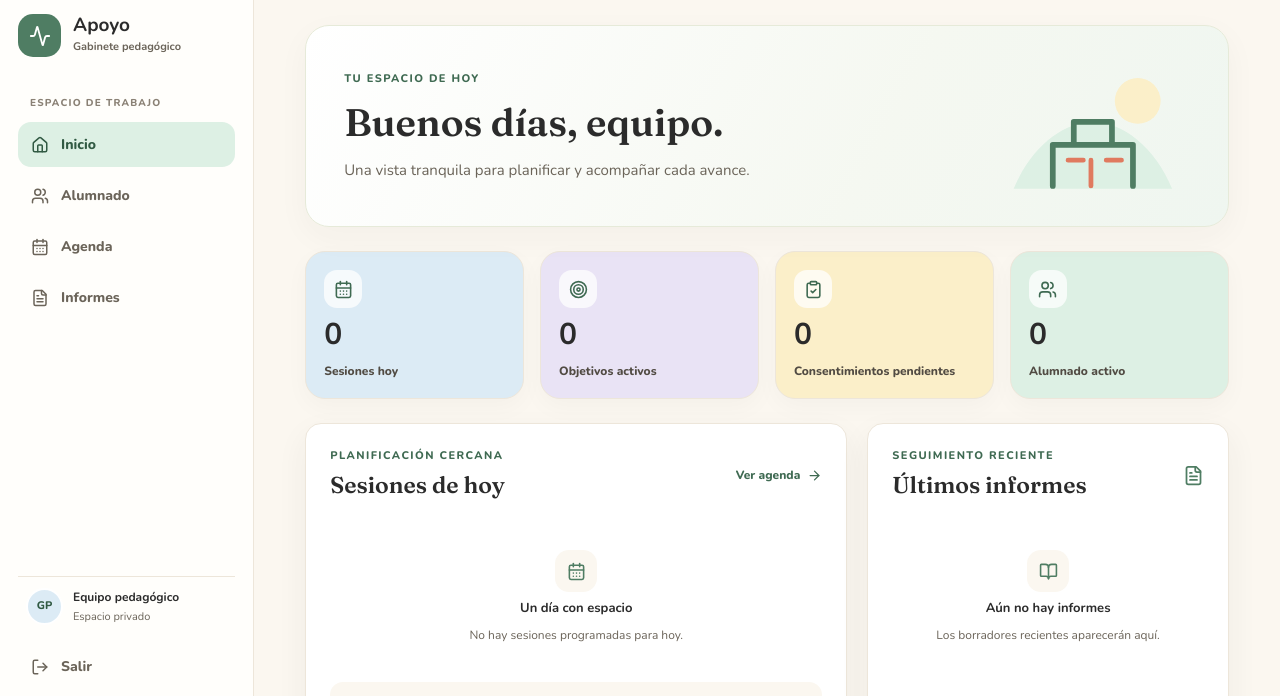
Test case: Apoyo › renders the goals chart with progress data
Click the button "Alumnado".
click(126, 196)  # box x1=18 y1=173 x2=235 y2=218
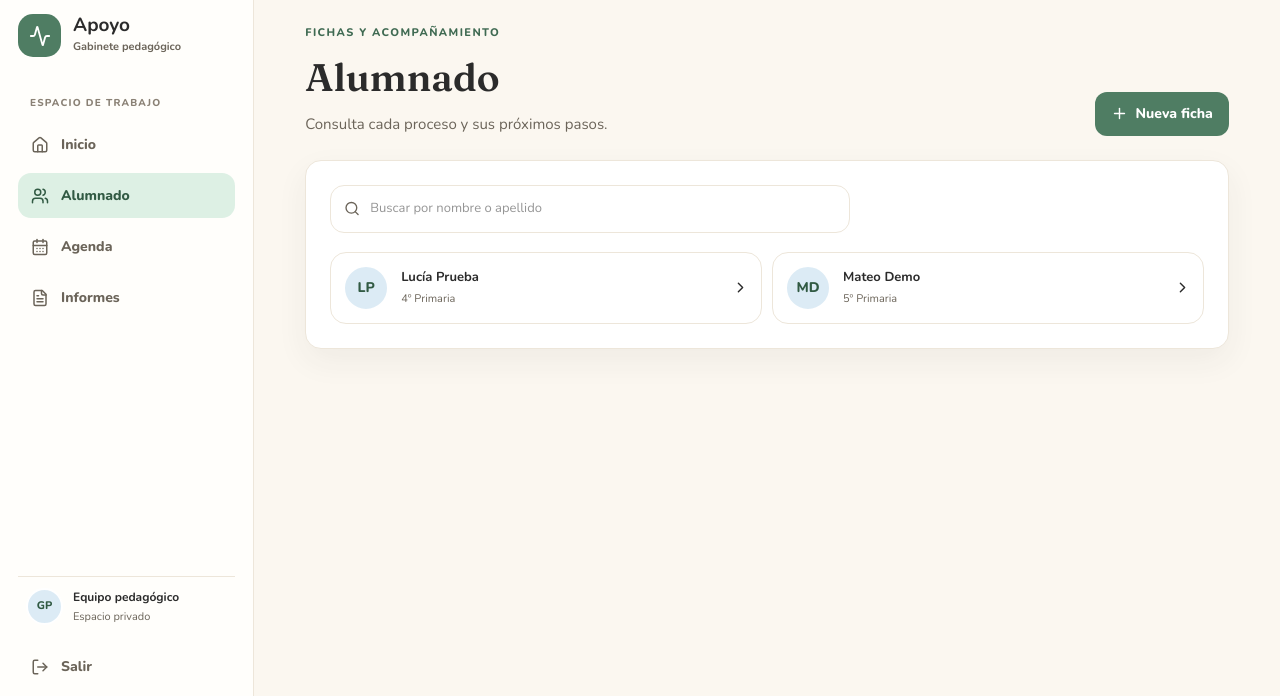
Now the text "Lucía Prueba" is shown
Click the text "Lucía Prueba".
click(440, 277)  # box x1=401 y1=268 x2=479 y2=286
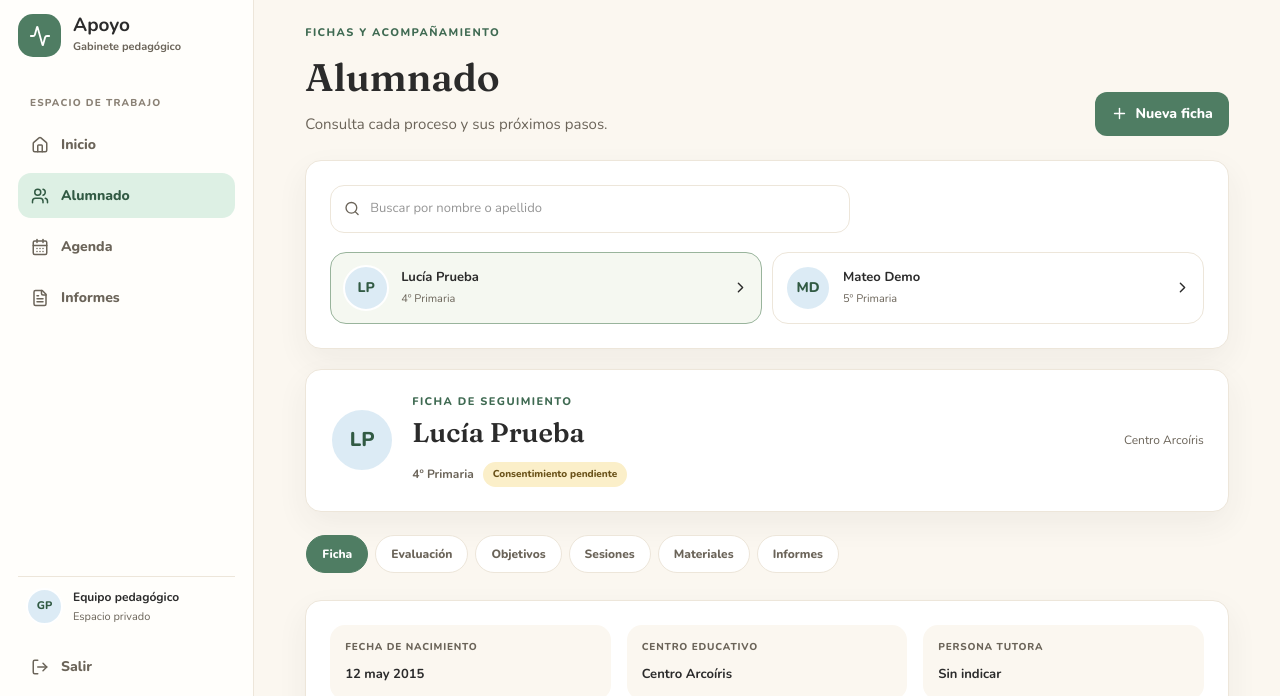
Click the button "Objetivos".
click(518, 554)  # box x1=475 y1=535 x2=562 y2=573
(page scrolled)
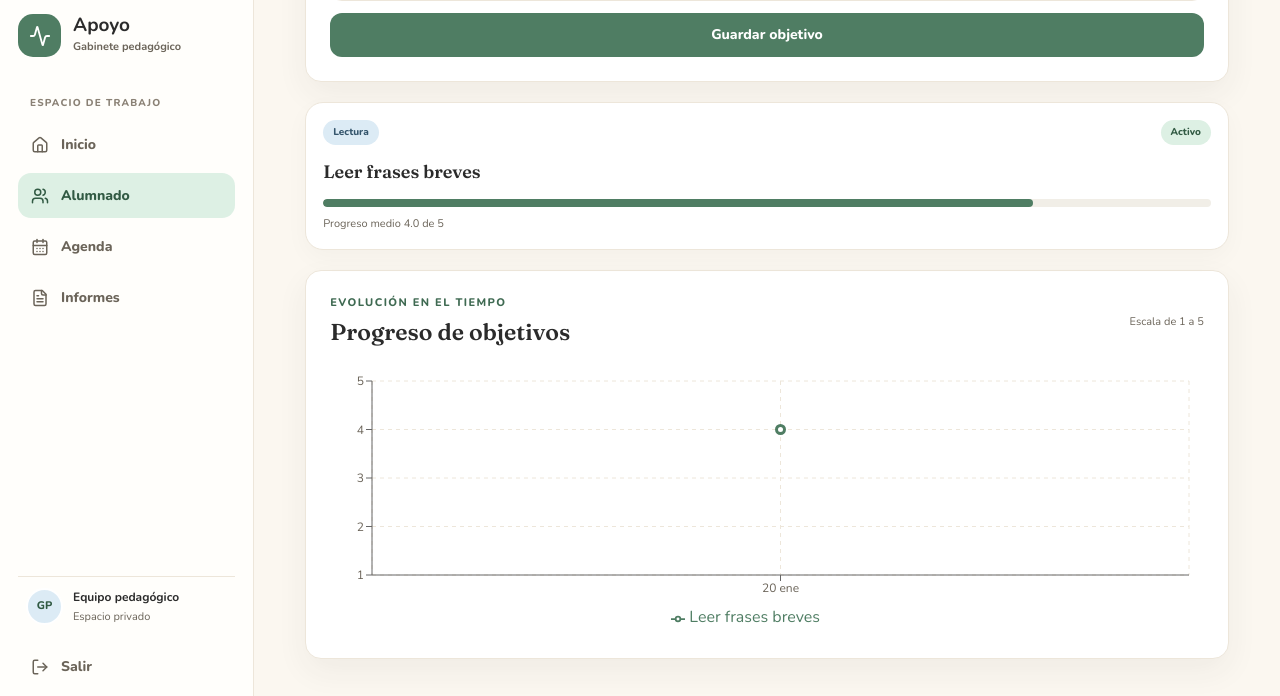
Now the picture named "Gráfico de progreso de objetivos" is shown, box x1=330 y1=369 x2=1204 y2=634
